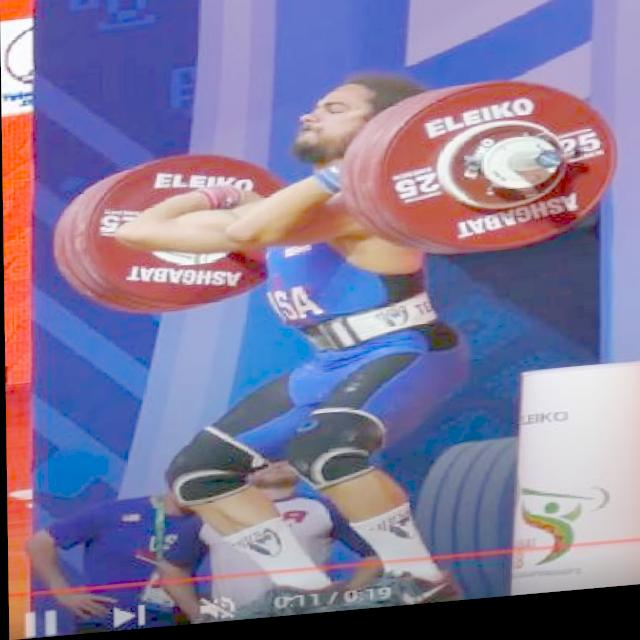barbell: (369, 80, 625, 274)
